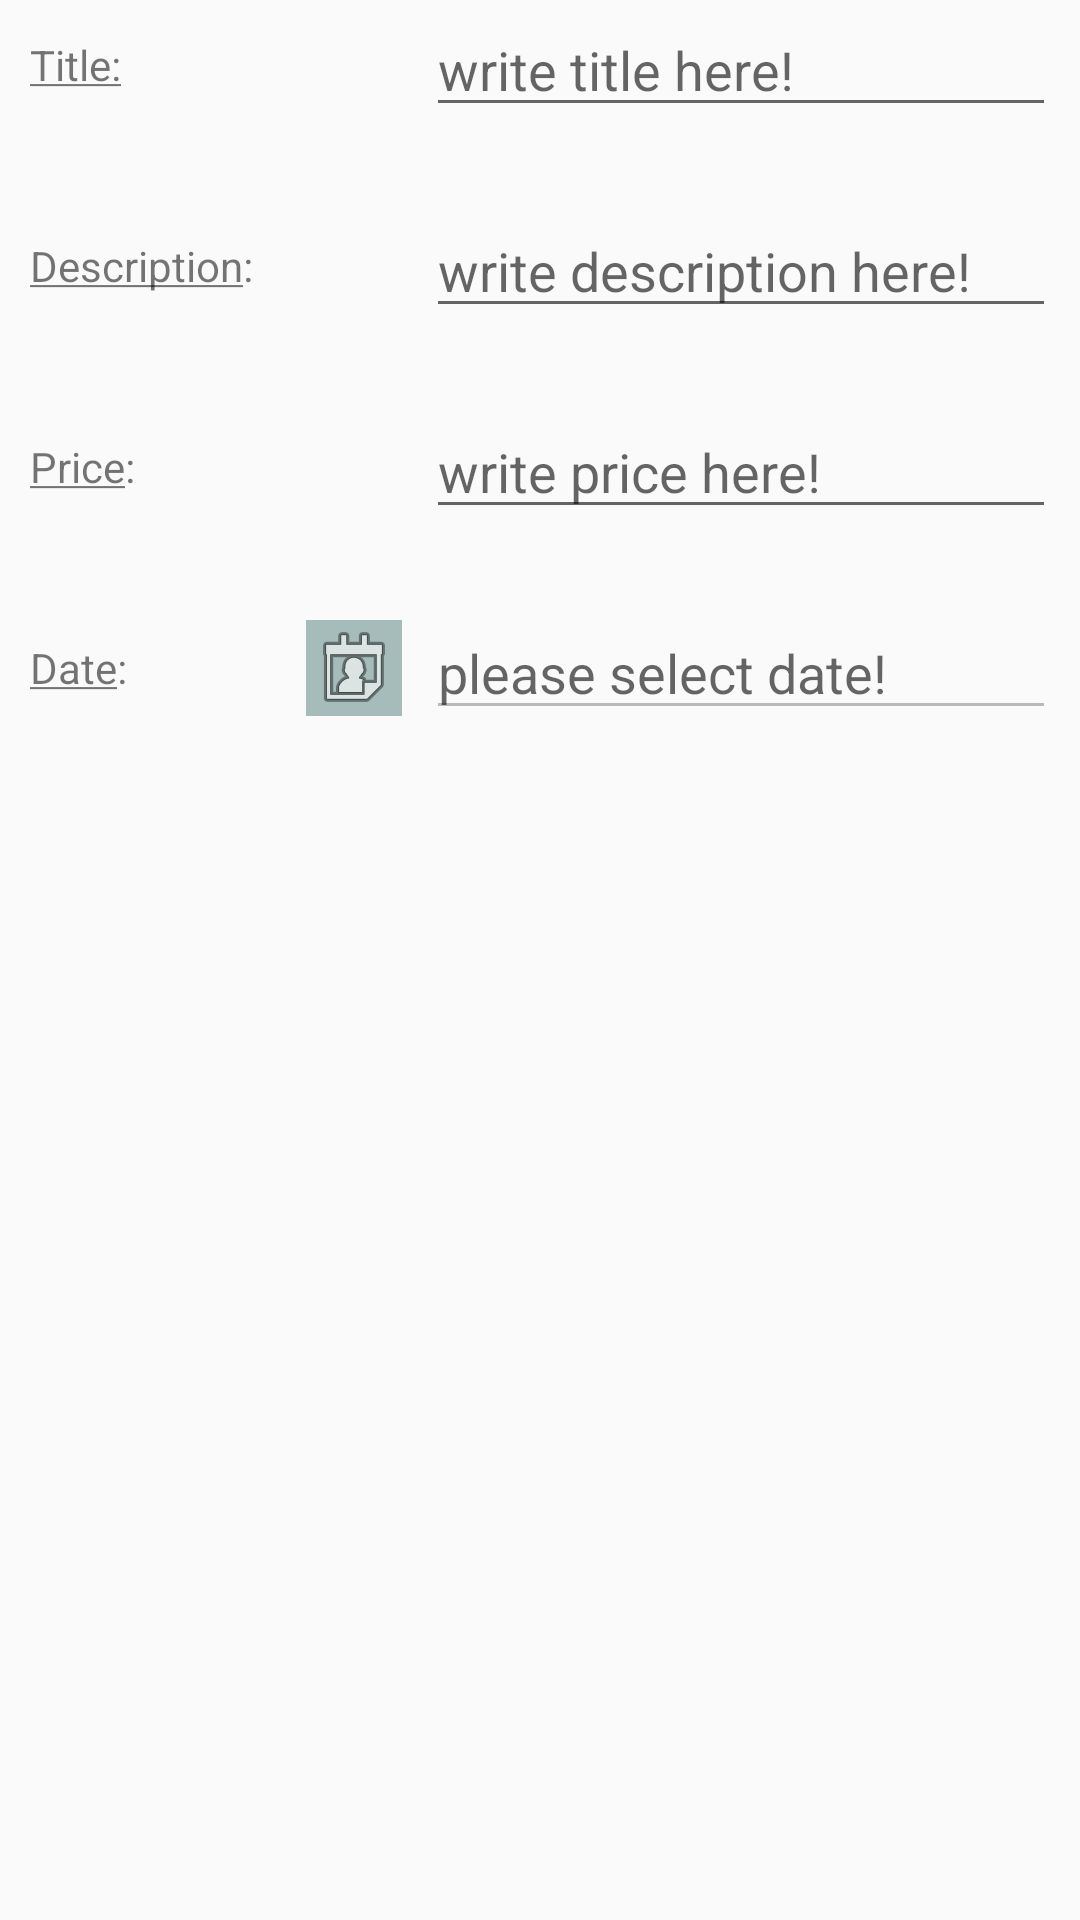

Screen size 1080x1920. Icon name, then its box in pixels as (left=x1, top=y1, right=x2, bottom=y2):
calendar: (left=306, top=620, right=402, bottom=716)
